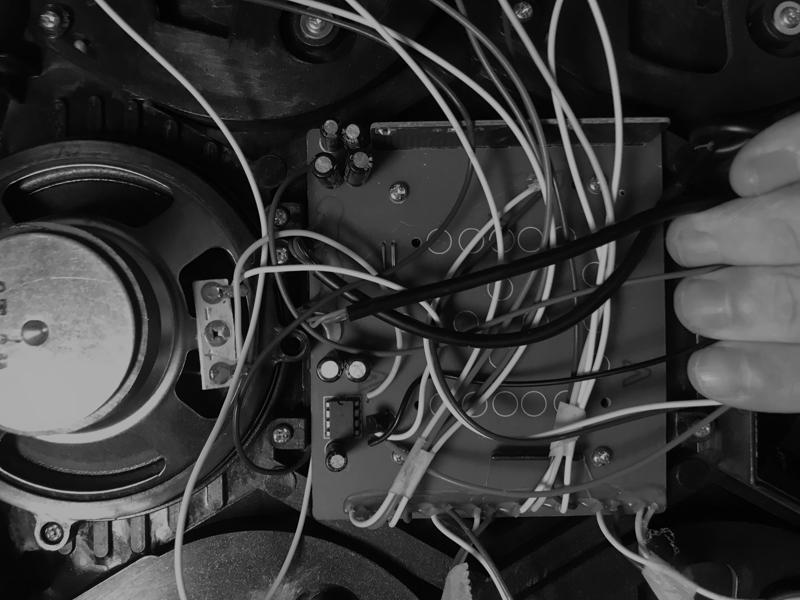Capacitor: (309, 150, 344, 191), (341, 147, 375, 189), (322, 440, 351, 474), (343, 353, 373, 385), (318, 117, 343, 153), (315, 353, 343, 385), (342, 121, 367, 154)
